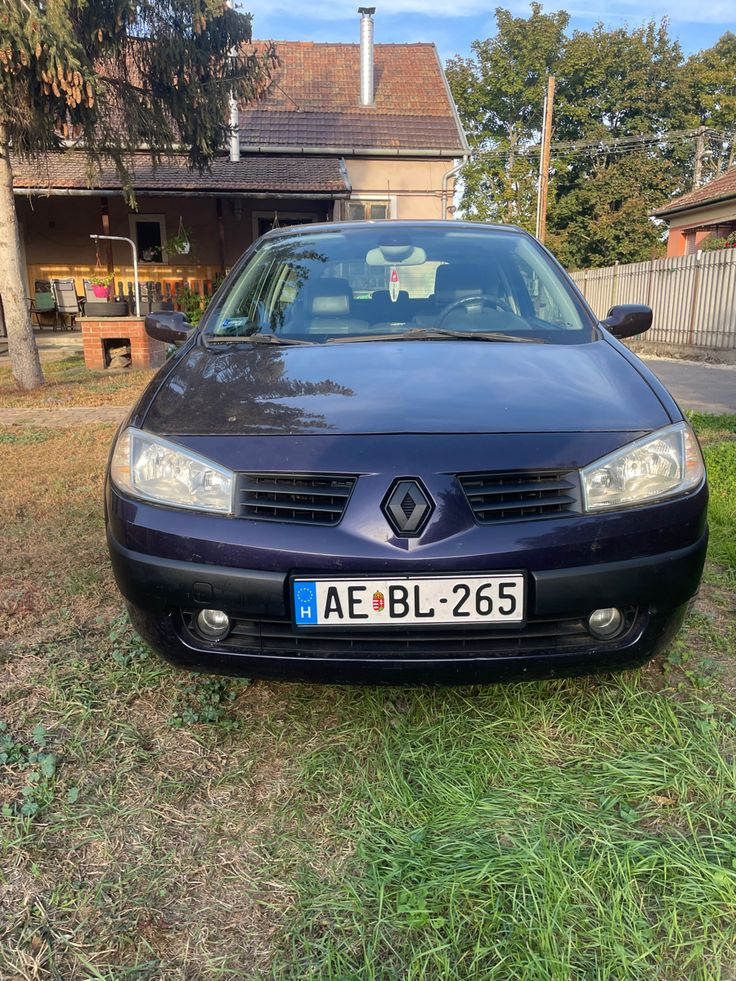plate: (285, 571, 530, 638)
